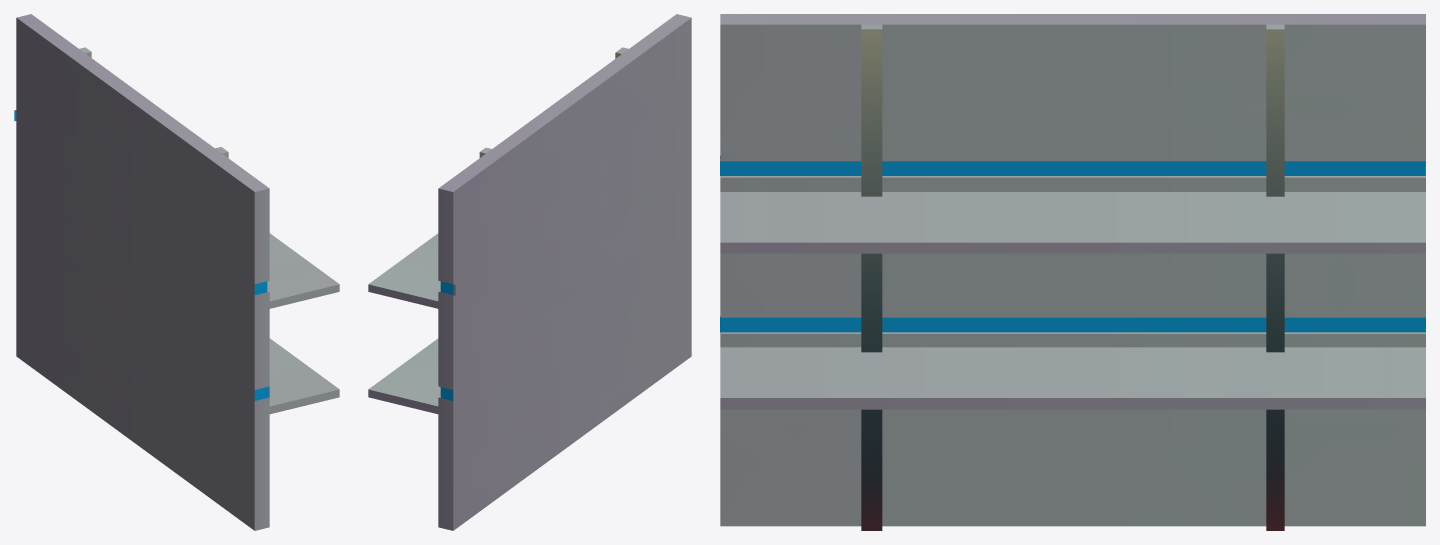
Rendered from Prop_ShopShelves.fbx.
The picture shows the model from 3 angles, left to right: view 1: azimuth 30°, elevation 25°; view 2: azimuth 150°, elevation 25°; view 3: azimuth 270°, elevation 25°; orthographic projection. The views are drawn at different scales.
Parts seen in each view (by area): view 1: Cube.027; view 2: Cube.027; view 3: Cube.027.
Part boxes in pixels (x1=…): Cube.027: x1=14, y1=14, x2=339, y2=530; Cube.027: x1=368, y1=14, x2=691, y2=530; Cube.027: x1=720, y1=14, x2=1425, y2=530.
Bounding box in the file's own units: 32.58 × 121 × 154.
